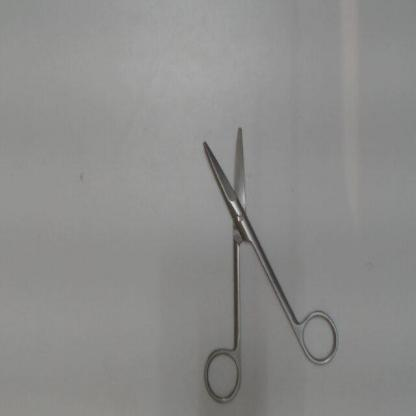Curved Mayo Scissors: (198, 118, 346, 408)
